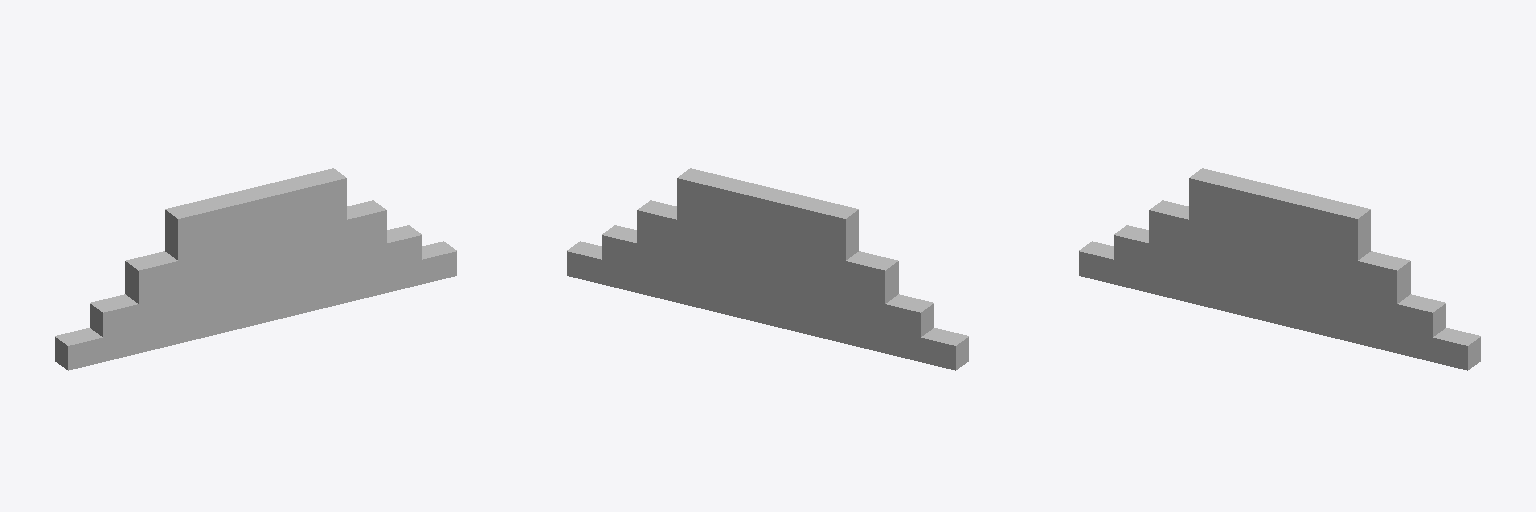
File: wall_ruin.obj
The picture shows the model from 3 angles: view 1: azimuth 30°, elevation 25°; view 2: azimuth 150°, elevation 25°; view 3: azimuth 330°, elevation 25°; orthographic projection.
Parts seen in each view (by area): view 1: Cube; view 2: Cube; view 3: Cube.
Part boxes in pixels (x1,y1,x2,y2): Cube: (55, 168, 456, 370); Cube: (567, 168, 968, 370); Cube: (1079, 168, 1480, 370).
Bounding box in the file's own units: 33.2 × 10.16 × 2.